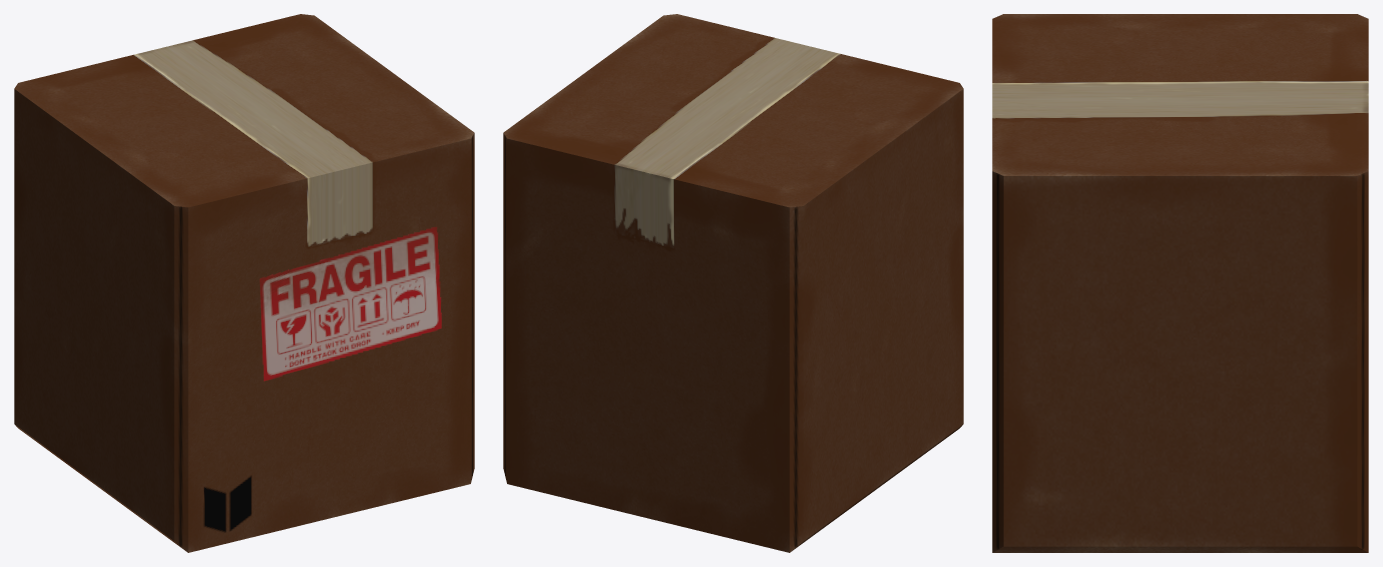
The model's file is boxClosed.fbx.
The picture shows the model from 3 angles, left to right: view 1: azimuth 30°, elevation 25°; view 2: azimuth 150°, elevation 25°; view 3: azimuth 270°, elevation 25°; orthographic projection. The views are drawn at different scales.
Parts seen in each view (by area): view 1: Box_Closed; view 2: Box_Closed; view 3: Box_Closed.
Part boxes in pixels (bbox=[...]): Box_Closed: bbox=[14, 14, 474, 552]; Box_Closed: bbox=[503, 14, 963, 552]; Box_Closed: bbox=[992, 14, 1368, 552].
Size of the model in its own units: 89.61 by 98.51 by 87.94.
